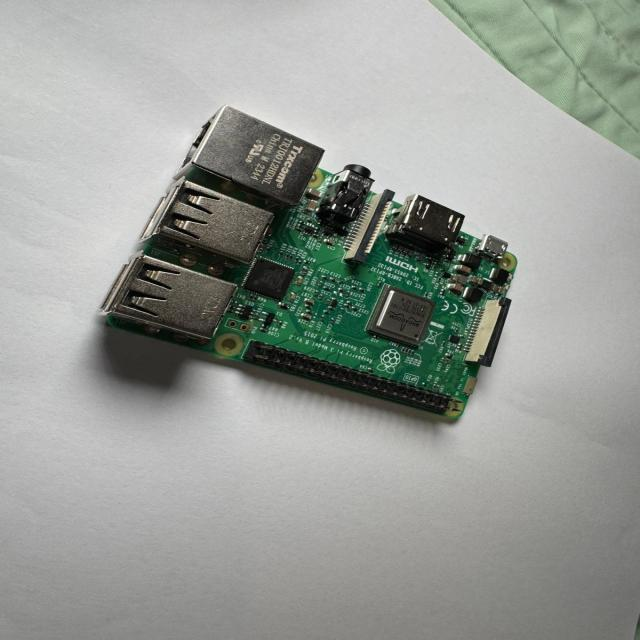CPU: (363, 283, 442, 350)
Ethernet: (168, 101, 334, 221)
GPIO: (241, 338, 464, 419)
HDMI: (386, 190, 472, 265)
RAM-3: (238, 253, 302, 301)
Raspberry: (97, 103, 524, 422)
